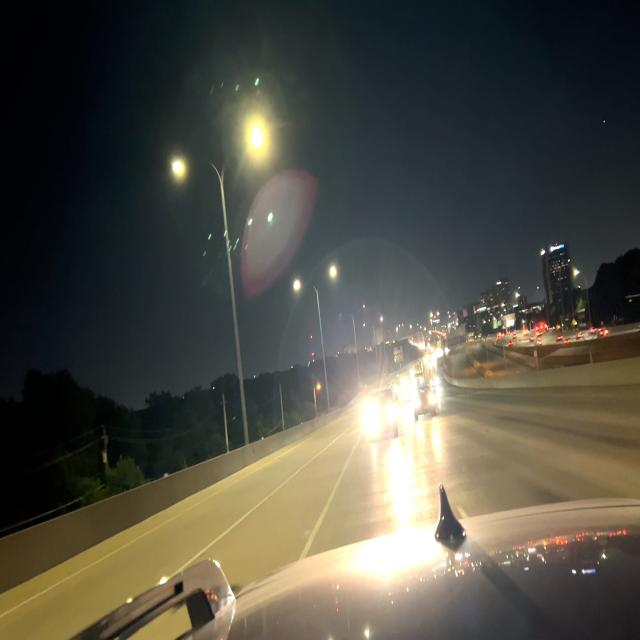back-of-sign: (447, 324, 469, 355)
